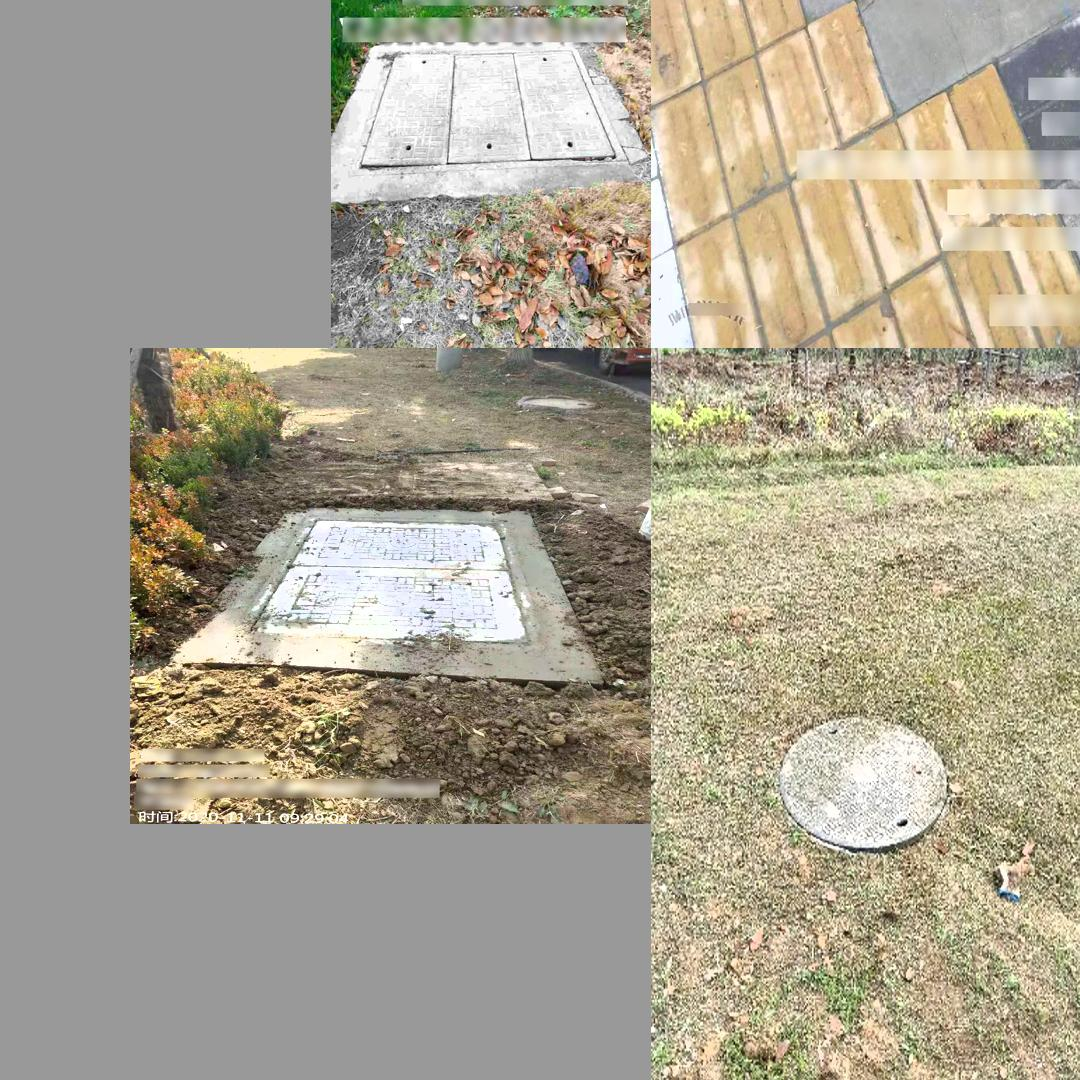good: (195, 498, 596, 665), (350, 44, 630, 174), (778, 713, 945, 847)
